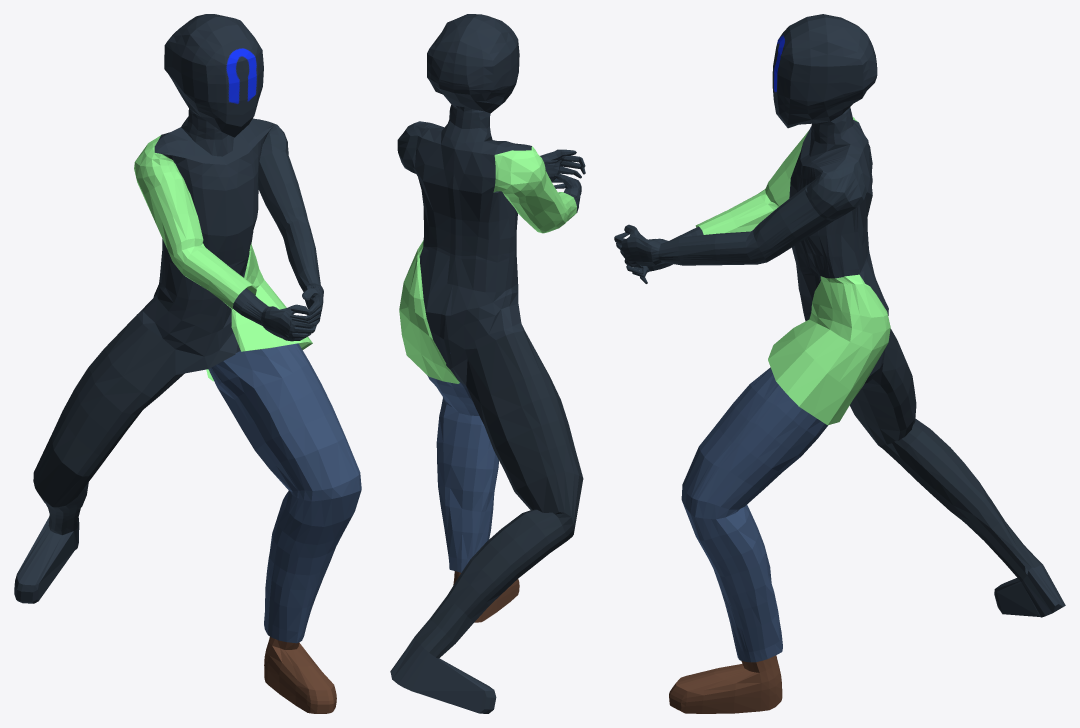
File: Mar_WB_000007.obj
3 renders of one model, left to right at view 1: azimuth 30°, elevation 25°; view 2: azimuth 150°, elevation 25°; view 3: azimuth 270°, elevation 25°, orthographic. The views are drawn at different scales.
Parts seen in each view (by area): view 1: Cube.000_Cube.001; view 2: Cube.000_Cube.001; view 3: Cube.000_Cube.001.
Part boxes in pixels (left/top/right/bottom): Cube.000_Cube.001: left=14, top=14, right=361, bottom=713; Cube.000_Cube.001: left=390, top=14, right=585, bottom=713; Cube.000_Cube.001: left=614, top=14, right=1065, bottom=713.
Bounding box in the file's own units: 1.31 × 3.6 × 2.19.
